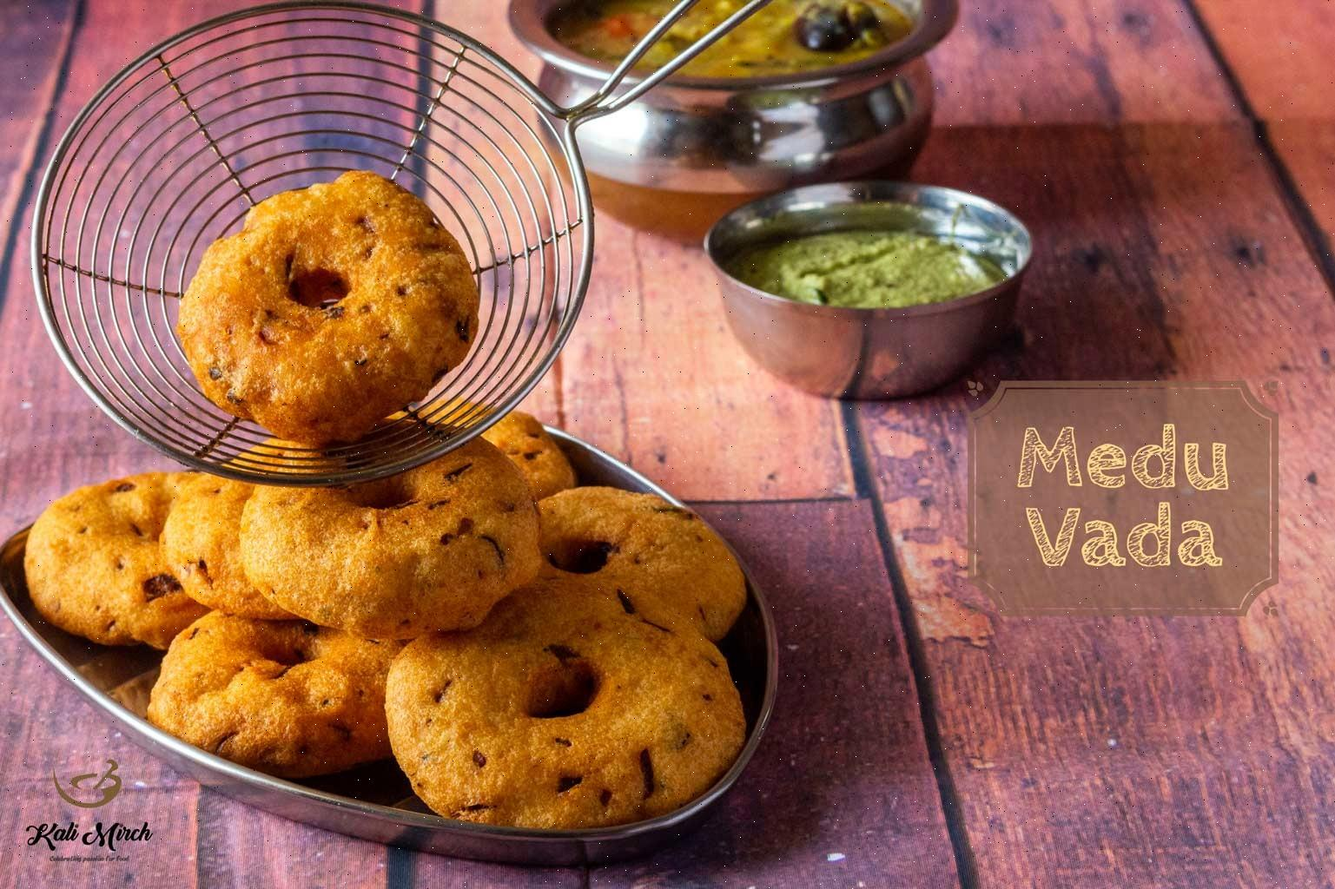medu vada: (197, 484, 797, 841)
